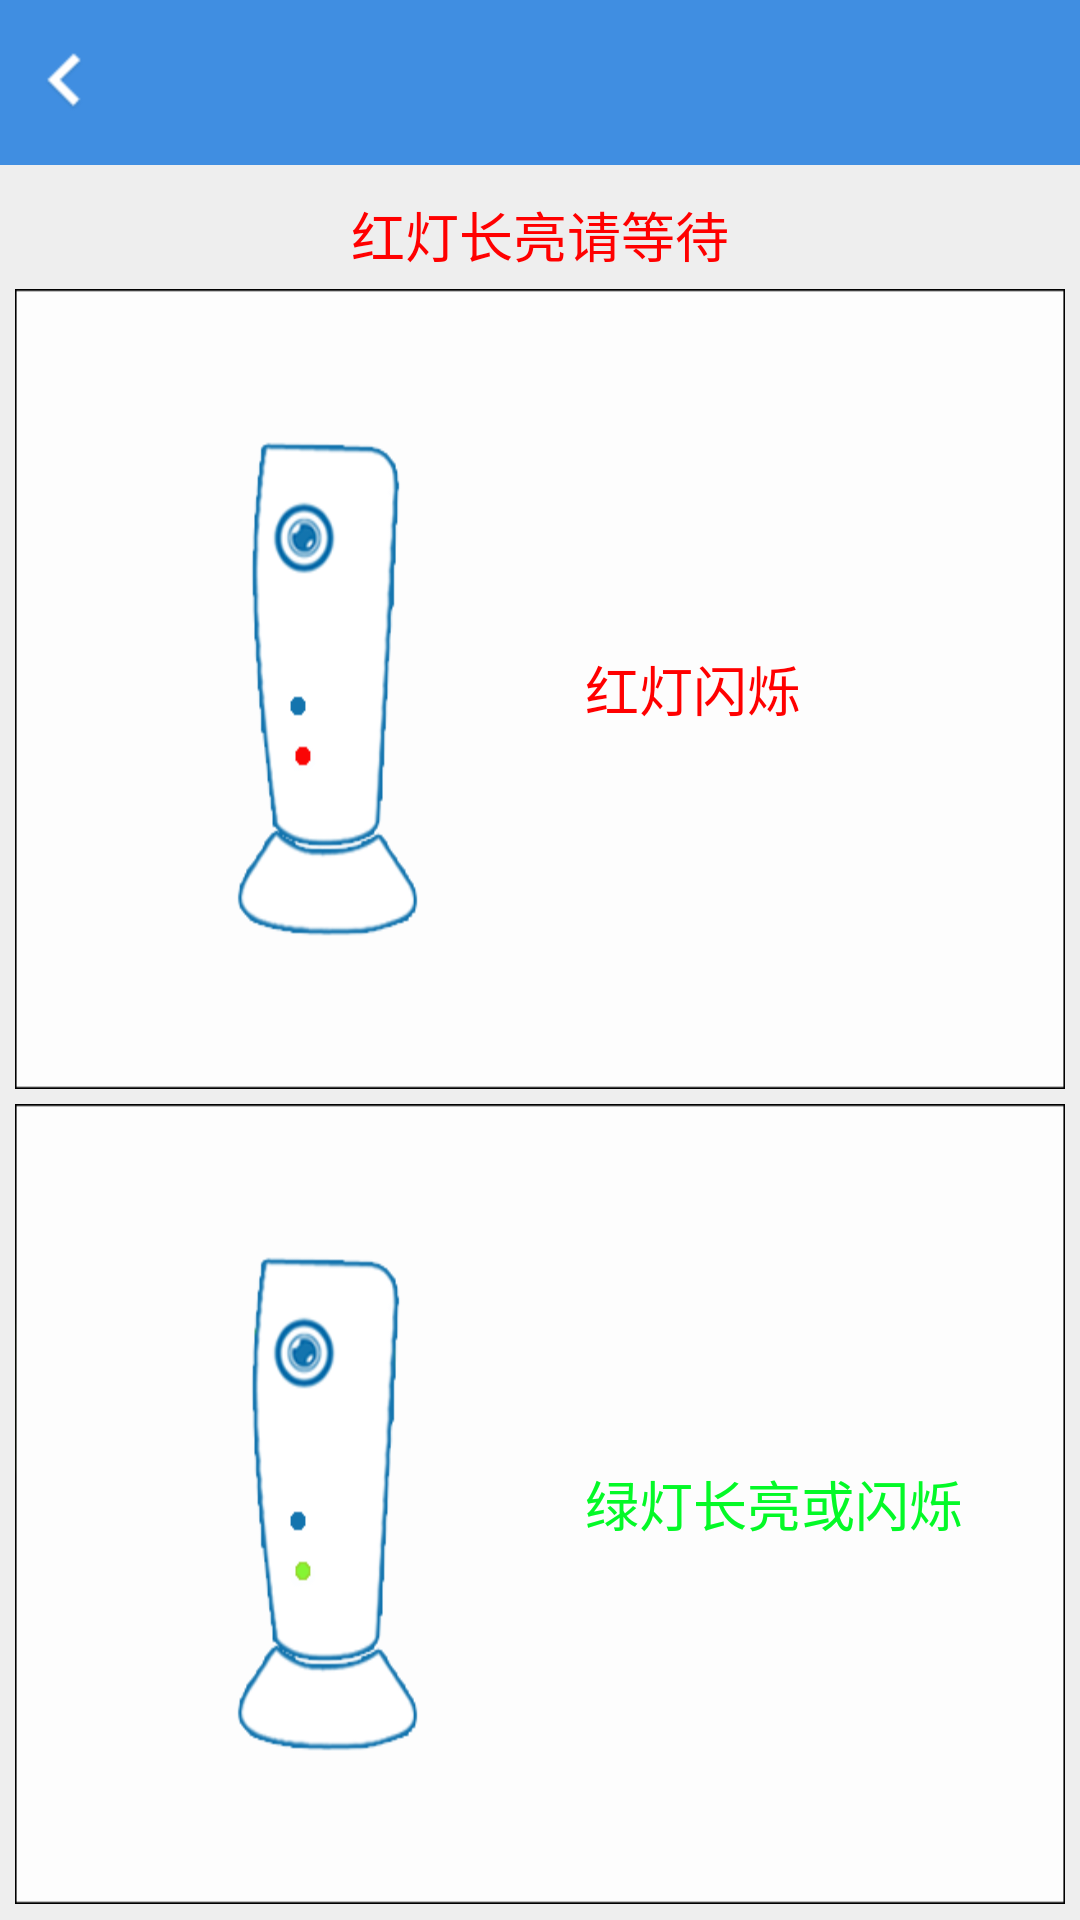

Icons on this 1080x1920 Android screen, each with the point to tap as (x,y):
back: (64,79)
